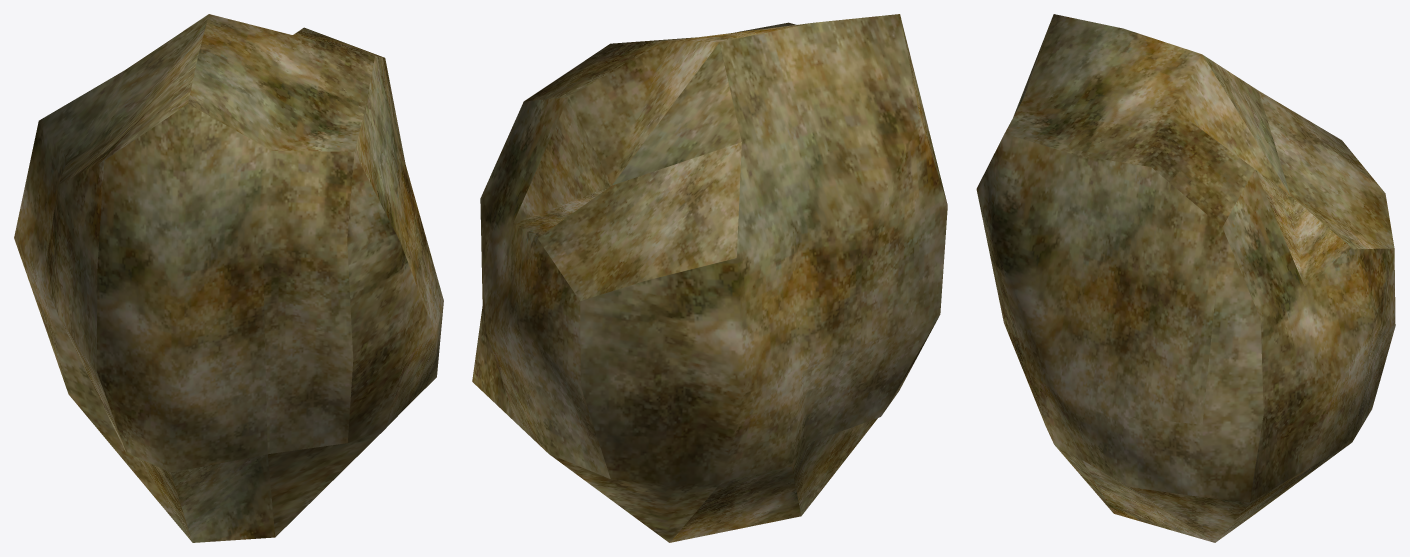
Rendered from LVL_ROAST_MUTTON_ROCK07.fbx.
The picture shows the model from 3 angles, left to right: view 1: azimuth 30°, elevation 25°; view 2: azimuth 150°, elevation 25°; view 3: azimuth 270°, elevation 25°; orthographic projection. The views are drawn at different scales.
Parts seen in each view (by area): view 1: LVL_ROAST_MUTTON_ROCK07; view 2: LVL_ROAST_MUTTON_ROCK07; view 3: LVL_ROAST_MUTTON_ROCK07.
Part boxes in pixels (<box>): LVL_ROAST_MUTTON_ROCK07: <box>14,14,443,542</box>; LVL_ROAST_MUTTON_ROCK07: <box>472,14,947,542</box>; LVL_ROAST_MUTTON_ROCK07: <box>976,14,1395,542</box>.
Bounding box in the file's own units: 8488 × 10127 × 8490.
Materials: 1 (1 with a texture image).
